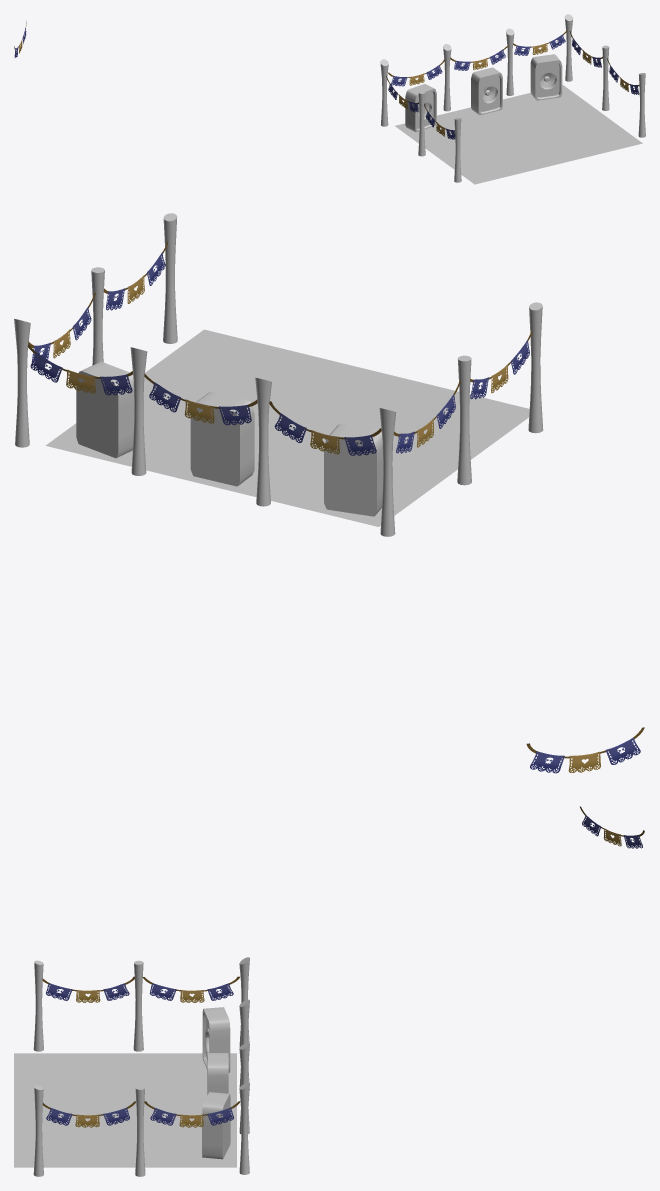
Rendered from Banners.fbx.
3 views of the same model, one above another, from view 1: azimuth 30°, elevation 25°; view 2: azimuth 150°, elevation 25°; view 3: azimuth 270°, elevation 25° (orthographic). The views are drawn at different scales.
Parts seen in each view (by area): view 1: Dance_Area1, pCube251, Pole2, pCube247, Pole4, pCube252, Pole3, Pole1, pCylinder112, pCylinder113, pCylinder114, pCylinder115 (+4 smaller); view 2: Dance_Area1, pCube250, pCube251, pCube247, pCube252, Pole3, Pole2, Pole1, Pole4, pCylinder115, pCylinder112, pCylinder113 (+5 smaller); view 3: Dance_Area1, pCube253, pCube255, pCube254, pCube256, Pole2, pCylinder113, pCylinder115, pCylinder112, pCylinder114, pCube250.
Boxes of the visible parts, bbox=[...] form: Dance_Area1: bbox=[395, 54, 642, 184]; pCube251: bbox=[450, 45, 508, 70]; Pole2: bbox=[564, 14, 573, 81]; pCube247: bbox=[388, 59, 444, 86]; Pole4: bbox=[506, 28, 514, 95]; pCube252: bbox=[513, 30, 566, 55]; Pole3: bbox=[443, 44, 451, 111]; Pole1: bbox=[380, 59, 388, 126]; pCylinder112: bbox=[418, 91, 425, 156]; pCylinder113: bbox=[454, 118, 461, 182]; pCylinder114: bbox=[602, 45, 609, 110]; pCylinder115: bbox=[638, 73, 645, 137]; Dance_Area1: bbox=[45, 329, 529, 526]; pCube250: bbox=[526, 727, 644, 773]; pCube251: bbox=[144, 373, 257, 425]; pCube247: bbox=[269, 401, 381, 455]; pCube252: bbox=[28, 343, 132, 395]; Pole3: bbox=[255, 377, 271, 506]; Pole2: bbox=[14, 319, 30, 447]; Pole1: bbox=[379, 408, 396, 536]; Pole4: bbox=[130, 347, 147, 475]; pCylinder115: bbox=[163, 213, 177, 343]; pCylinder112: bbox=[457, 355, 471, 485]; pCylinder113: bbox=[528, 302, 543, 433]; Dance_Area1: bbox=[14, 1007, 236, 1167]; pCube253: bbox=[144, 1101, 240, 1127]; pCube255: bbox=[142, 976, 239, 1002]; pCube254: bbox=[43, 1101, 136, 1127]; pCube256: bbox=[42, 976, 134, 1002]; Pole2: bbox=[239, 1082, 249, 1174]; pCylinder113: bbox=[33, 960, 43, 1051]; pCylinder115: bbox=[33, 1085, 43, 1176]; pCylinder112: bbox=[133, 960, 143, 1051]; pCylinder114: bbox=[135, 1086, 145, 1176]; pCube250: bbox=[579, 806, 644, 848].
Size of the model in its own units: 8.35 by 1.2 by 7.49.
